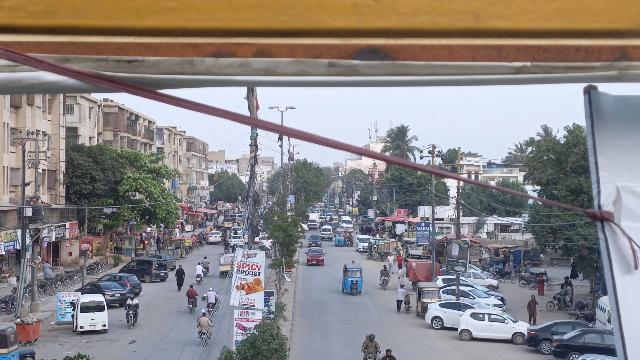Bike: (545, 294, 574, 313), (124, 306, 139, 329), (402, 290, 413, 315), (360, 349, 382, 360), (198, 331, 209, 349), (379, 275, 391, 291), (187, 296, 196, 316), (205, 302, 216, 318), (194, 273, 203, 287)
Car: (456, 306, 527, 343), (549, 326, 620, 360), (524, 317, 586, 353), (424, 298, 477, 331), (438, 285, 503, 308), (76, 279, 127, 306), (120, 256, 169, 284), (99, 270, 141, 297), (304, 246, 326, 269)
Person: (525, 293, 539, 326), (393, 281, 406, 315), (196, 310, 213, 332), (174, 263, 186, 293), (364, 331, 380, 352), (124, 294, 142, 311), (184, 283, 199, 301), (204, 285, 219, 303), (381, 346, 397, 360), (562, 281, 573, 300), (556, 282, 566, 302), (386, 251, 396, 270), (395, 251, 404, 270), (200, 255, 211, 269), (379, 265, 391, 277), (194, 262, 204, 276)
Rickshaw: (414, 279, 442, 317), (341, 262, 365, 297), (217, 251, 235, 278)
Van: (72, 293, 110, 333)
